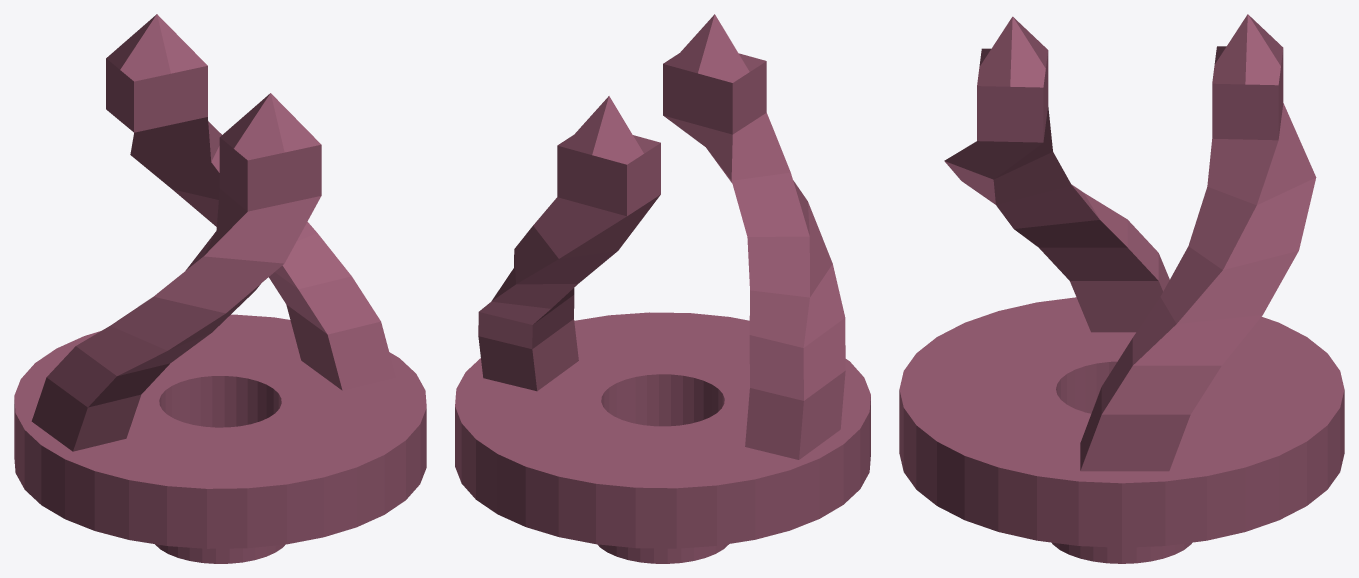
Rendered from park_sculpture.fbx.
3 renders of one model, left to right at view 1: azimuth 30°, elevation 25°; view 2: azimuth 150°, elevation 25°; view 3: azimuth 270°, elevation 25°, orthographic. The views are drawn at different scales.
Visible parts, largest first — view 1: Cylinder; view 2: Cylinder; view 3: Cylinder.
Boxes of the visible parts, <box> form: Cylinder: <box>14,14,426,563</box>; Cylinder: <box>455,14,870,563</box>; Cylinder: <box>899,14,1344,563</box>.
Bounding box in the file's own units: 1000 × 1279 × 1000.
